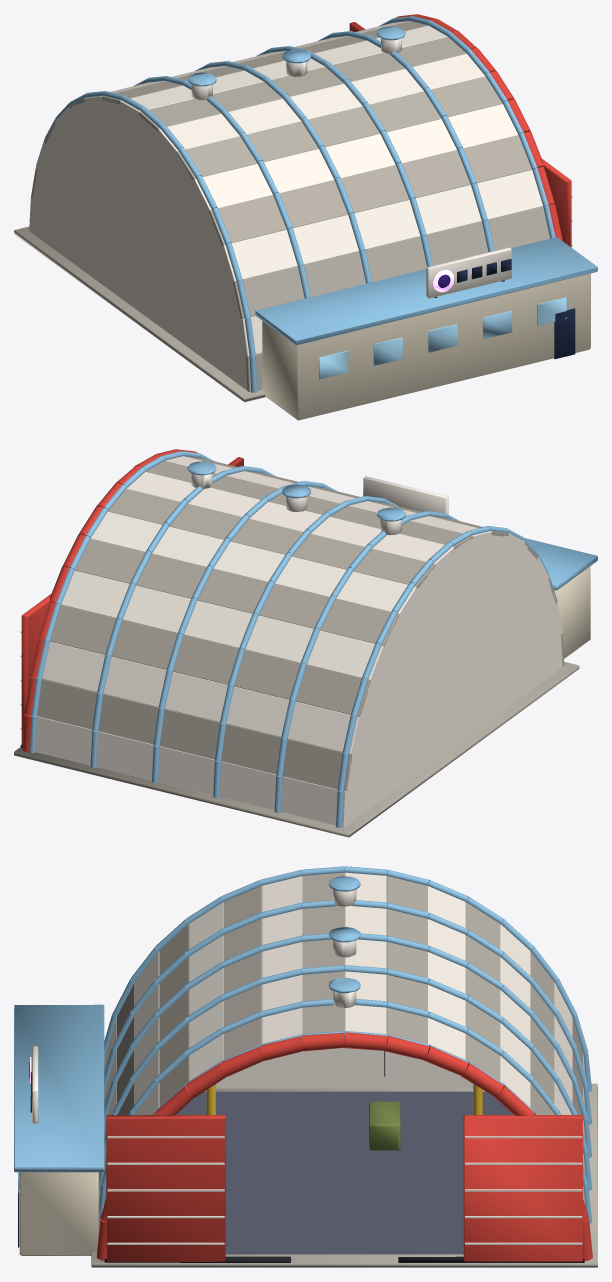
The model's file is hangar.glb.
3 renders of one model, top to bottom at view 1: azimuth 30°, elevation 25°; view 2: azimuth 150°, elevation 25°; view 3: azimuth 270°, elevation 25°, orthographic. The views are drawn at different scales.
Visible parts, largest first — view 1: hangar; view 2: hangar; view 3: hangar.
Part boxes in pixels (x1,y1,x2,y2): hangar: [14, 14, 597, 420]; hangar: [14, 449, 597, 837]; hangar: [14, 866, 597, 1267].
Size of the model in its own units: 15.99 by 10.12 by 21.89.
1 material, 1 textured.
